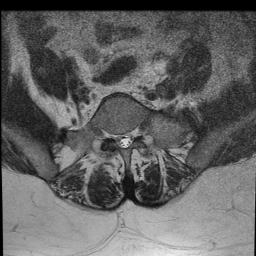CCS_stenosis: (121, 126, 128, 154)
LFS_normal: (134, 119, 140, 148)
LLS_normal: (128, 125, 134, 150)
RFS_stenosis: (106, 122, 113, 148)
RLS_normal: (113, 125, 121, 151)
